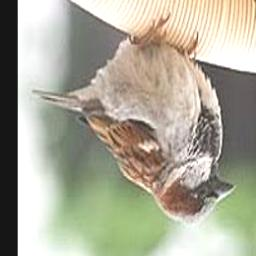Sparrow: (32, 14, 236, 226)
